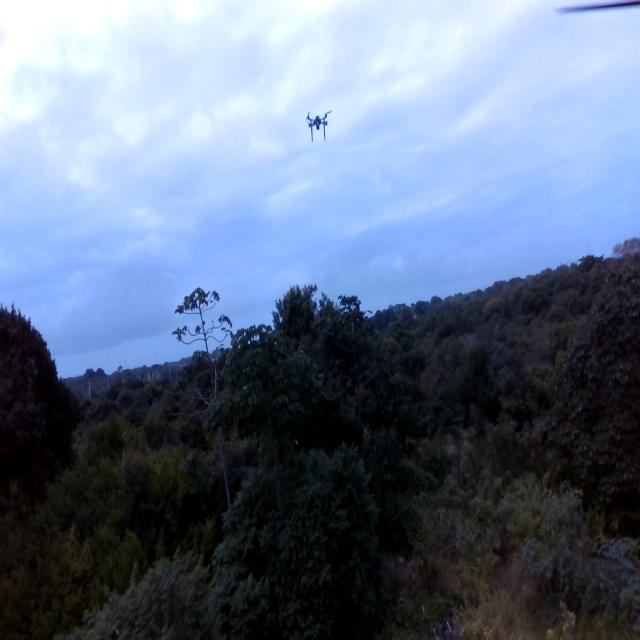-uav-: (298, 98, 332, 144)
